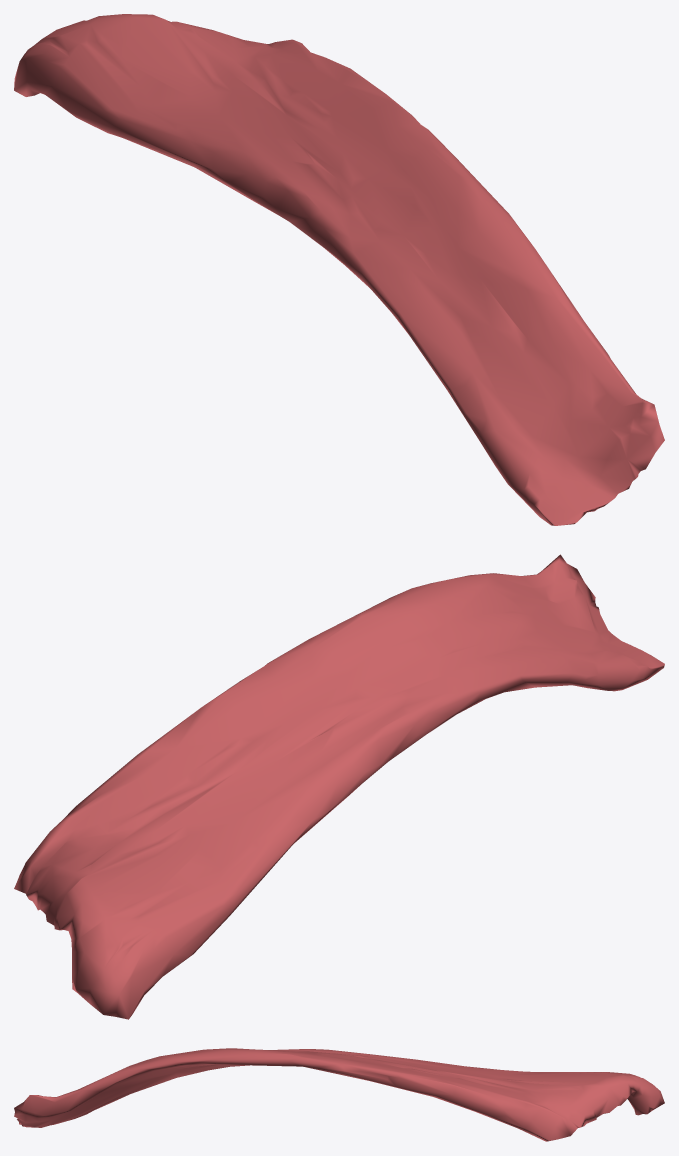
3 views of the same model, one above another, from view 1: azimuth 30°, elevation 25°; view 2: azimuth 150°, elevation 25°; view 3: azimuth 270°, elevation 25° (orthographic). The views are drawn at different scales.
Parts seen in each view (by area): view 1: 左侧胸骨舌骨肌; view 2: 左侧胸骨舌骨肌; view 3: 左侧胸骨舌骨肌.
Boxes of the visible parts, left/top/right/bottom form: 左侧胸骨舌骨肌: left=14, top=14, right=664, bottom=525; 左侧胸骨舌骨肌: left=14, top=554, right=664, bottom=1019; 左侧胸骨舌骨肌: left=14, top=1048, right=664, bottom=1141.
Bounding box in the file's own units: 0.0351 × 0.0275 × 0.1593.
